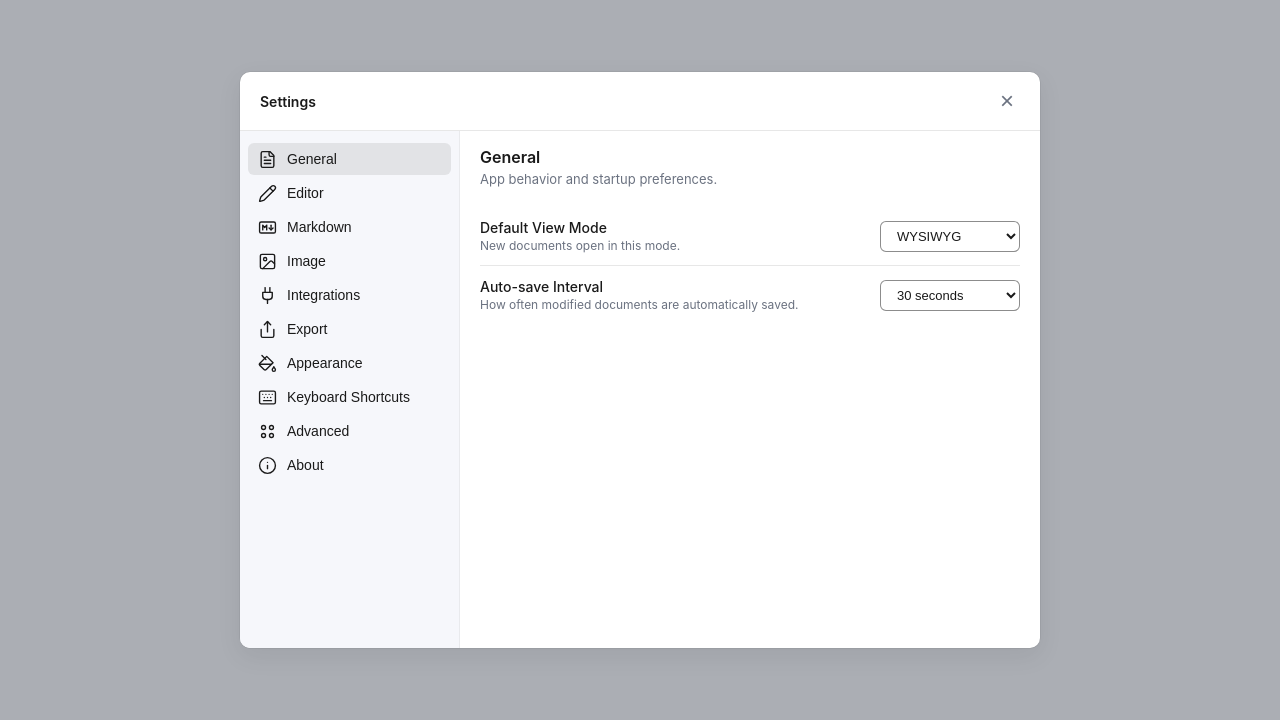
Scenario: T-9 status_unavailable keeps the toggle, toasts once, and re-reads the status › T-9 the refetched status shows, the requested value stays, one toast
Click the button "Integrations": (350, 295) [248, 279, 451, 311]
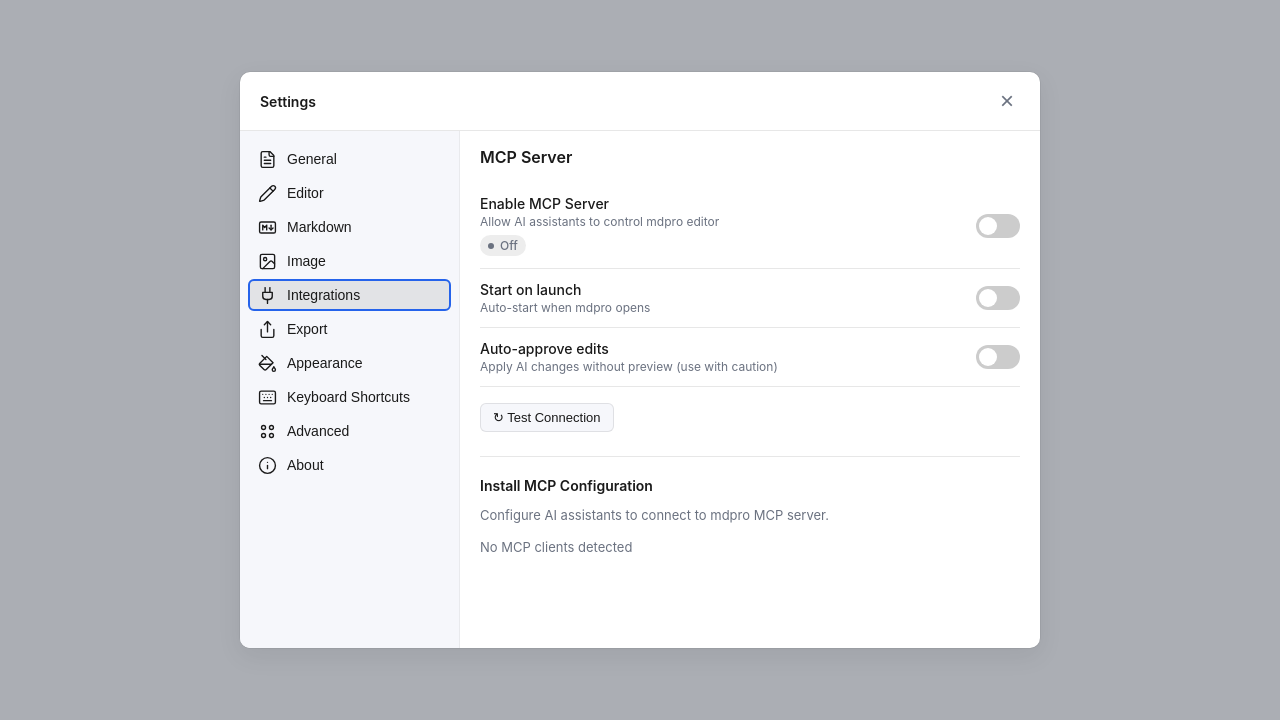
expect the switch labelled "Enable MCP Server" is enabled: met
expect the message "Off" is shown: met, box [480, 235, 526, 256]
Click the switch labelled "Enable MCP Server": (998, 226) [976, 214, 1020, 238]
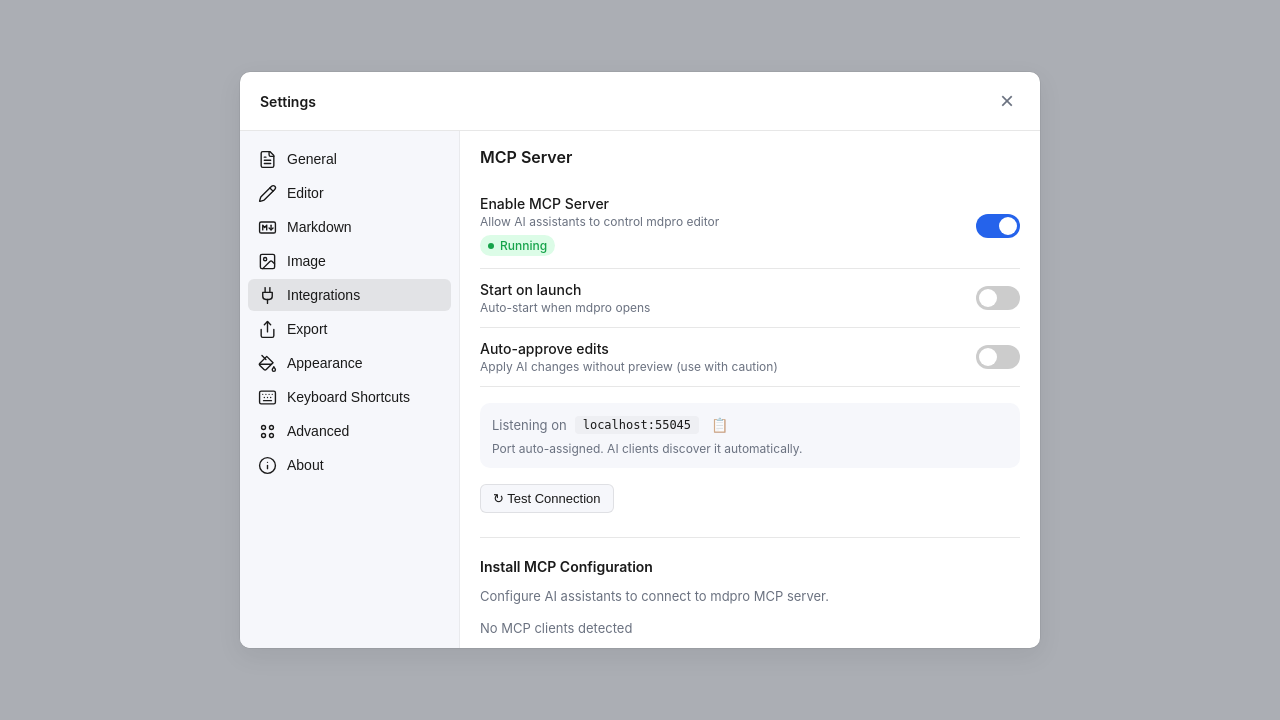
expect the switch labelled "Enable MCP Server" is checked: met, box [976, 214, 1020, 238]
expect the switch labelled "Enable MCP Server" is enabled: met, box [976, 214, 1020, 238]
expect the message reads "Running": met, box [500, 238, 547, 253]
